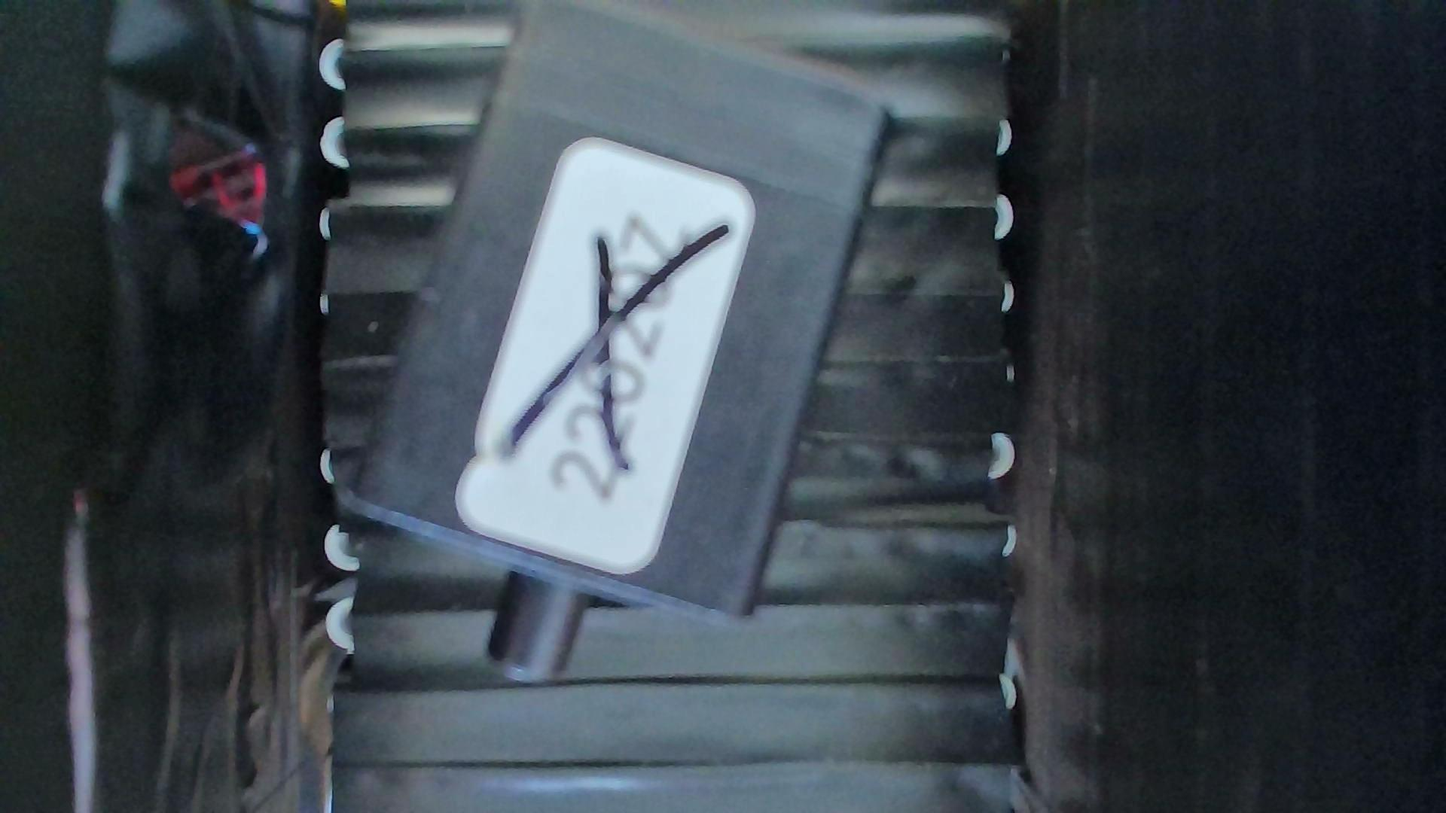motor: (334, 0, 891, 684)
